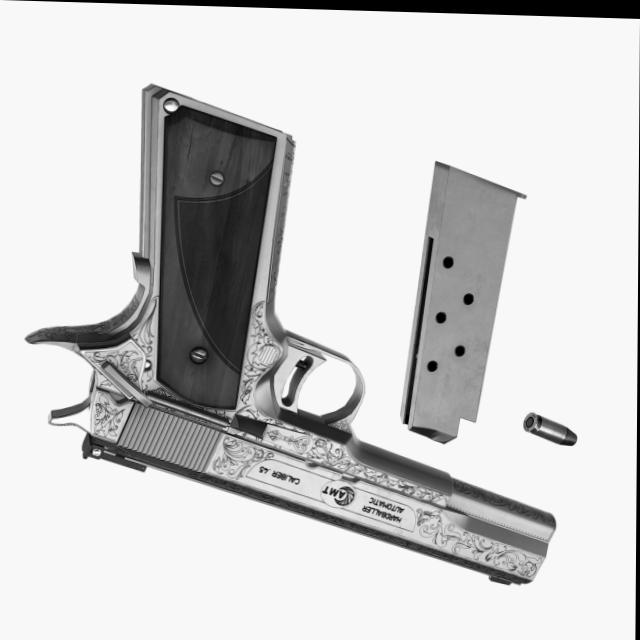handgun: (26, 82, 561, 586)
